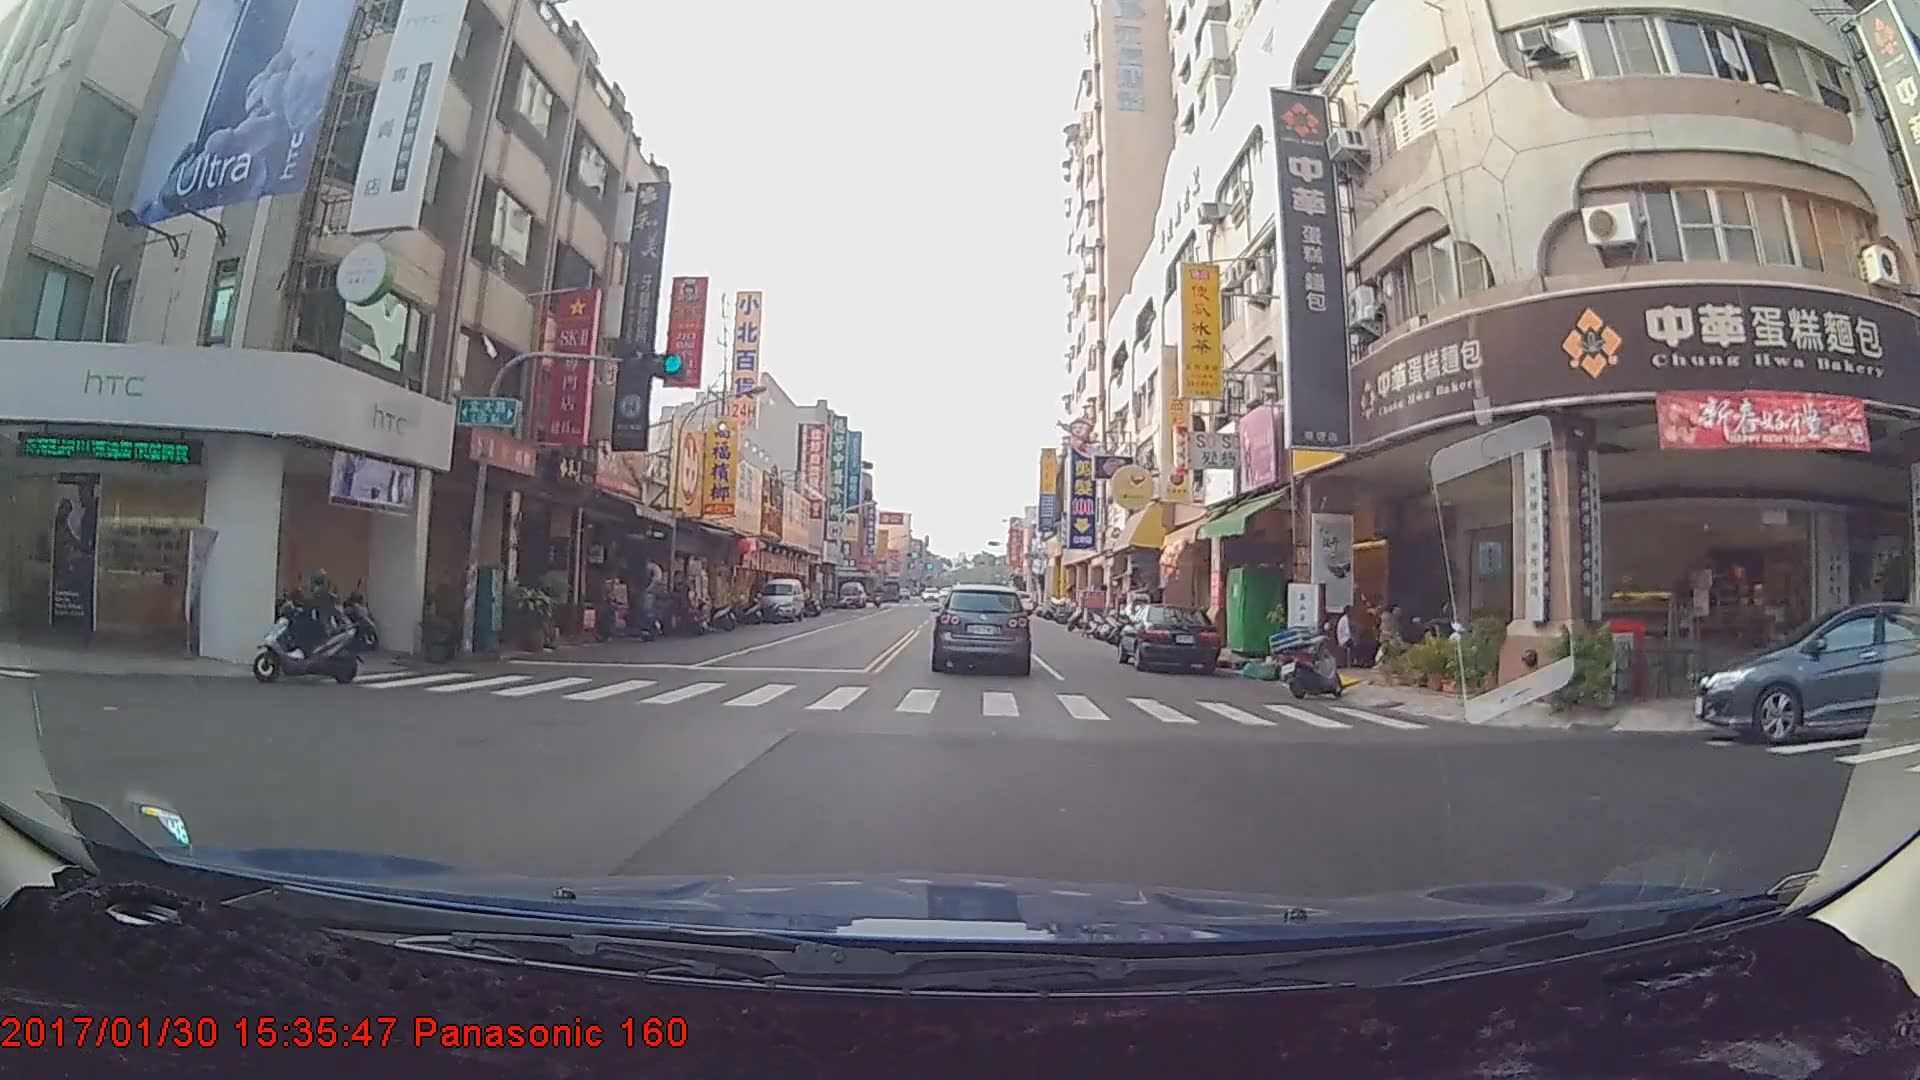pedestrian: (1368, 600, 1402, 670), (1332, 599, 1364, 665)
rider: (250, 563, 370, 683)
vehicle: (1698, 601, 1920, 744), (933, 583, 1029, 673), (1118, 601, 1221, 673), (752, 576, 804, 621), (839, 581, 867, 609)
